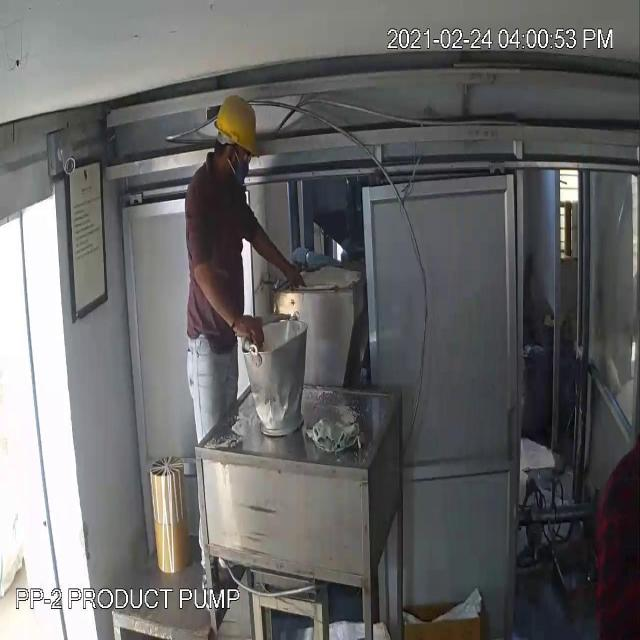helmet: (209, 84, 265, 164)
